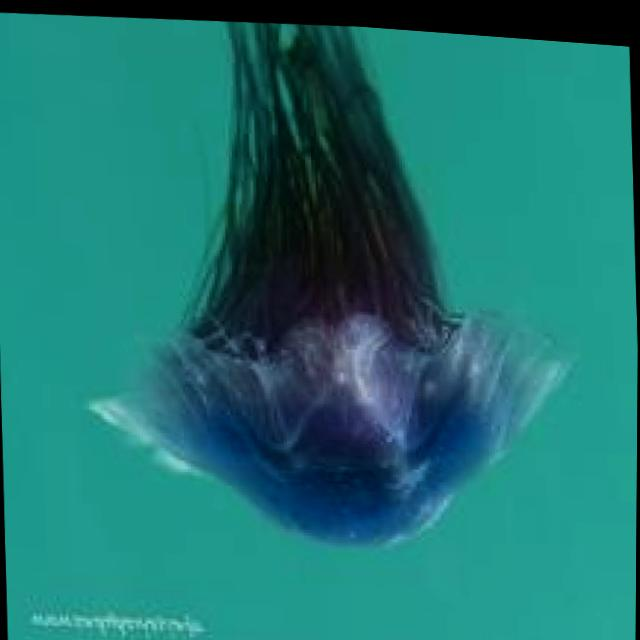Jellyfish: (68, 4, 580, 568)
